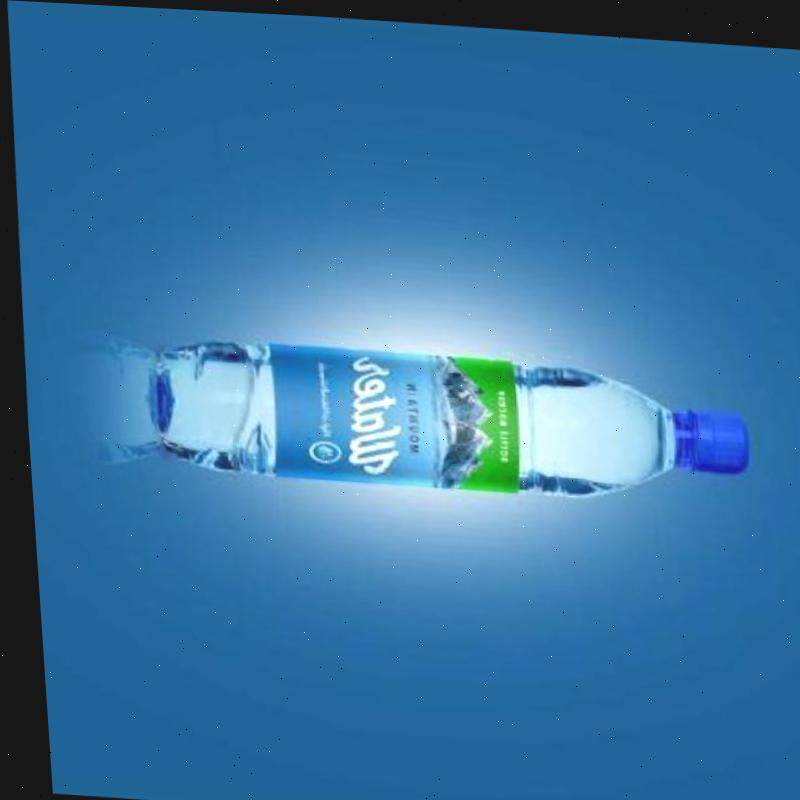botella: (145, 334, 747, 504)
